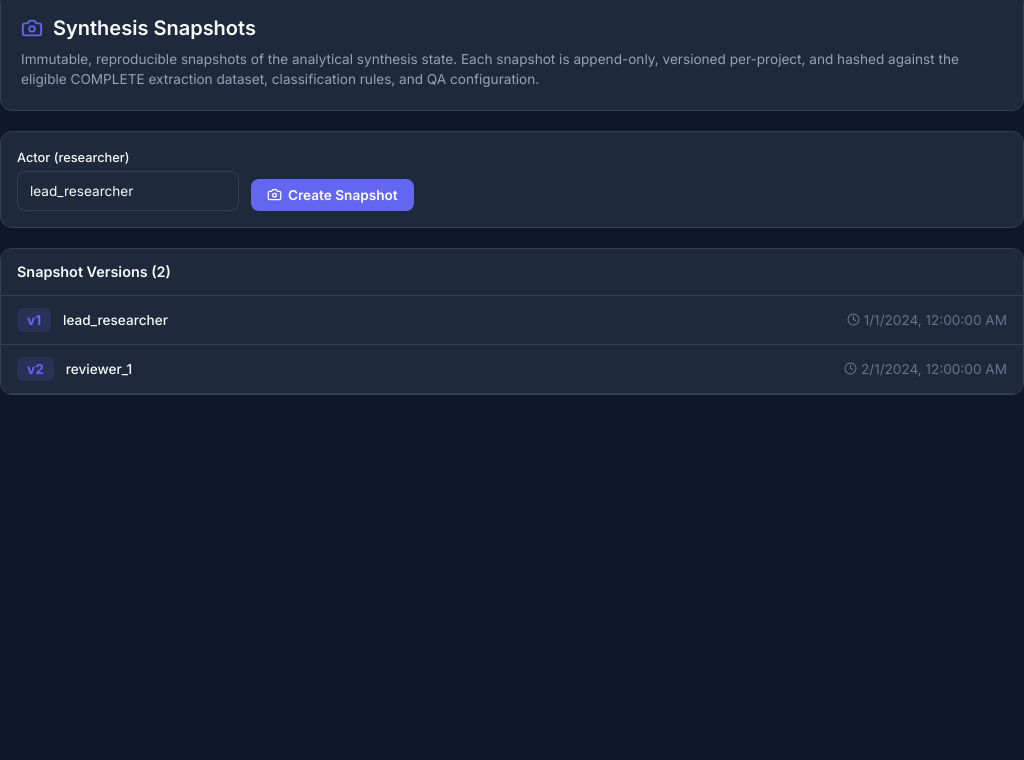
Scenario: SnapshotsWorkspace Component › E8: CSV export shows relations matrix
Click the button with test id "snapshot-row-1" at (34, 320), box x1=1 y1=296 x2=1023 y2=345
(page scrolled)
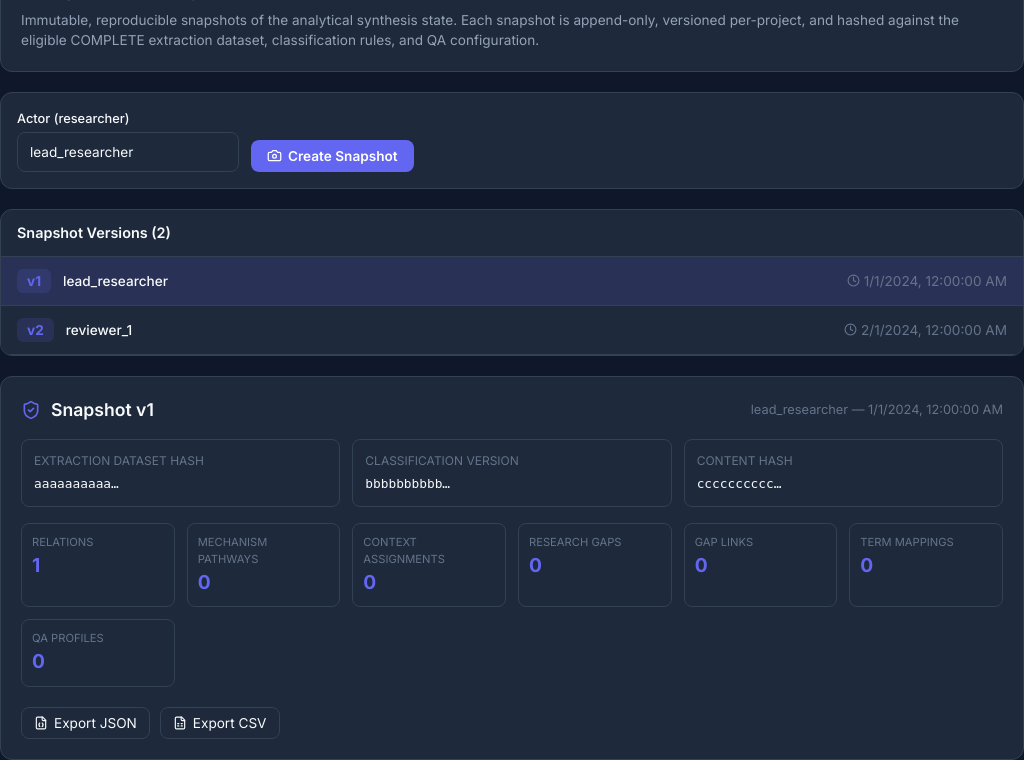
expect the button with test id "export-csv-btn" is shown: met
Click the button with test id "export-csv-btn" at (220, 723), box x1=160 y1=707 x2=280 y2=739
(page scrolled)
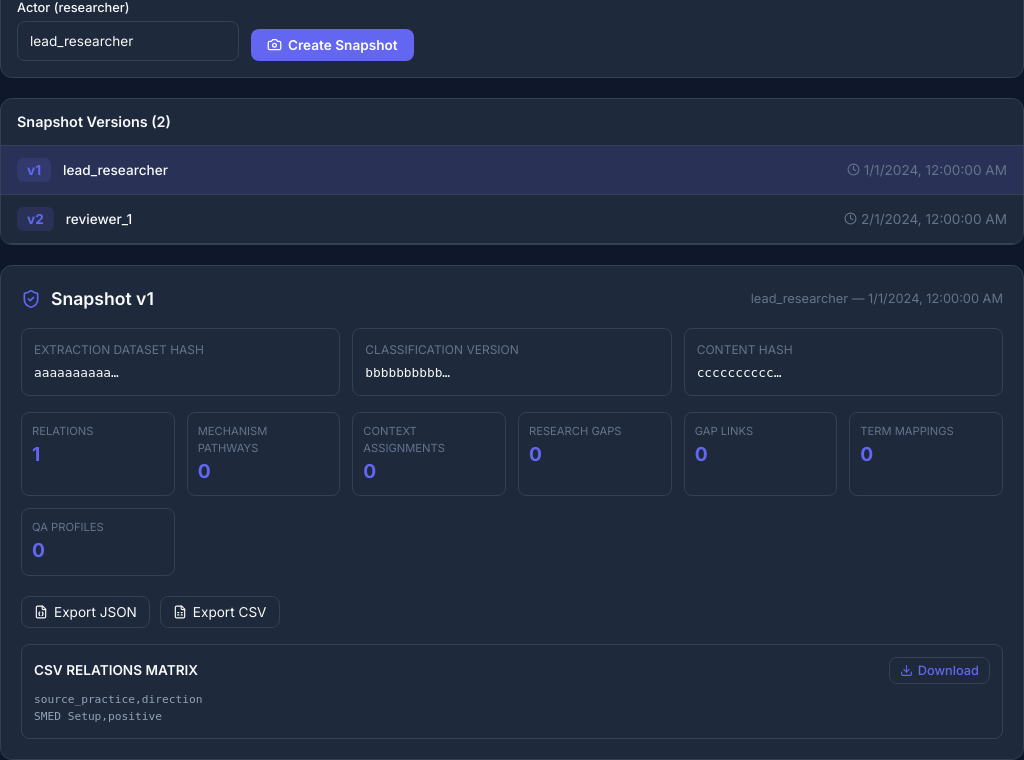
expect the text "CSV Relations Matrix" is shown: met, box x1=34 y1=660 x2=198 y2=681
